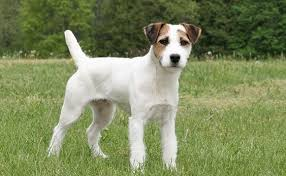dog: (154, 33, 192, 69)
